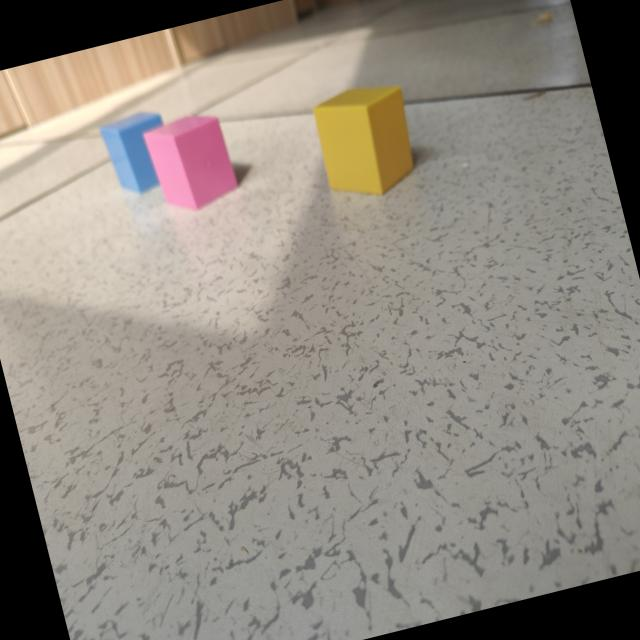blue: (101, 112, 164, 194)
pink: (144, 116, 242, 211)
yellow: (312, 86, 415, 197)
